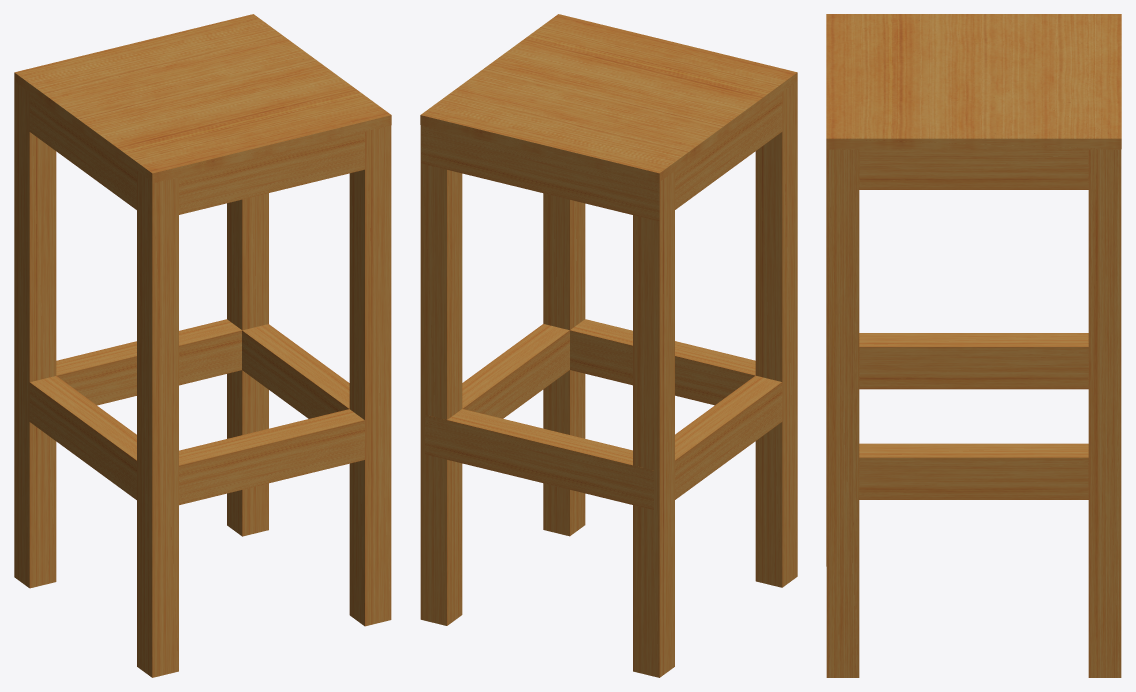
The model's file is Sgabello1.dae.
The picture shows the model from 3 angles, left to right: view 1: azimuth 30°, elevation 25°; view 2: azimuth 150°, elevation 25°; view 3: azimuth 270°, elevation 25°; orthographic projection. The views are drawn at different scales.
Parts seen in each view (by area): view 1: Cube_012_003; view 2: Cube_012_003; view 3: Cube_012_003.
Part boxes in pixels (box(x1,y1,x2,y2)): Cube_012_003: box(14, 14, 391, 677); Cube_012_003: box(420, 14, 797, 677); Cube_012_003: box(826, 14, 1121, 677).
Size of the model in its own units: 0.35 by 0.35 by 0.7057.
Materials: 1 (1 with a texture image).
